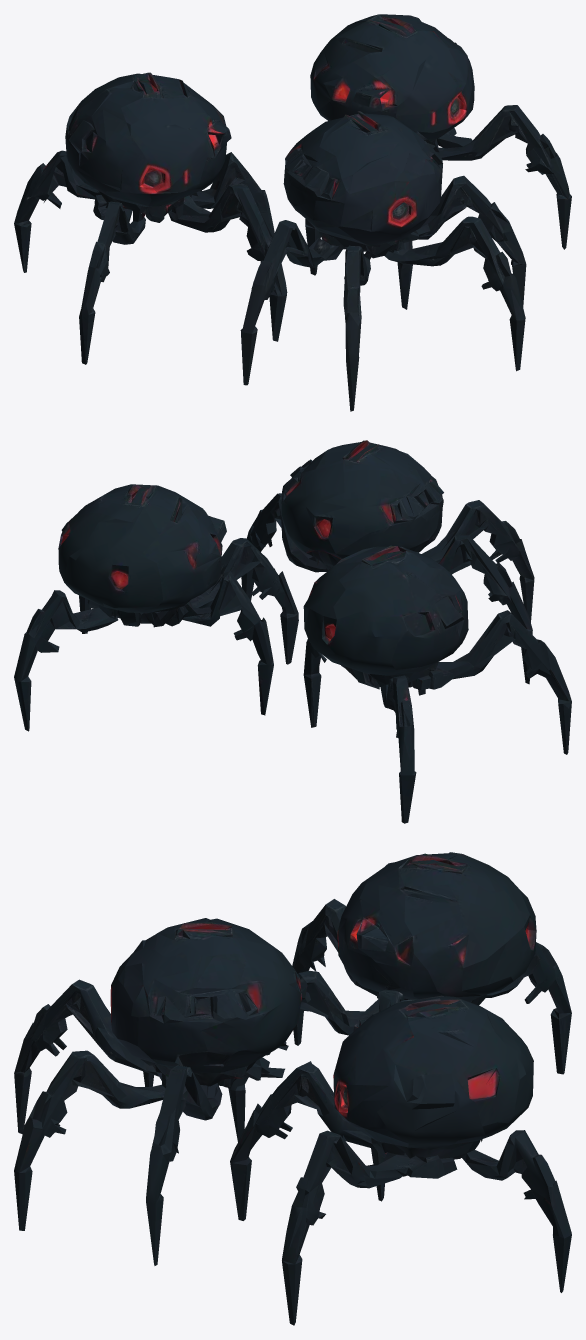
The model's file is crawler_swarm.glb.
3 renders of one model, top to bottom at view 1: azimuth 30°, elevation 25°; view 2: azimuth 150°, elevation 25°; view 3: azimuth 270°, elevation 25°, orthographic. The views are drawn at different scales.
Visible parts, largest first — view 1: model; view 2: model; view 3: model.
Boxes of the visible parts, left/top/right/bottom form: model: left=14, top=14, right=571, bottom=411; model: left=14, top=440, right=571, bottom=823; model: left=14, top=852, right=571, bottom=1325.
Size of the model in its own units: 0.6 by 0.2535 by 0.4942.
2 materials, 1 textured.
